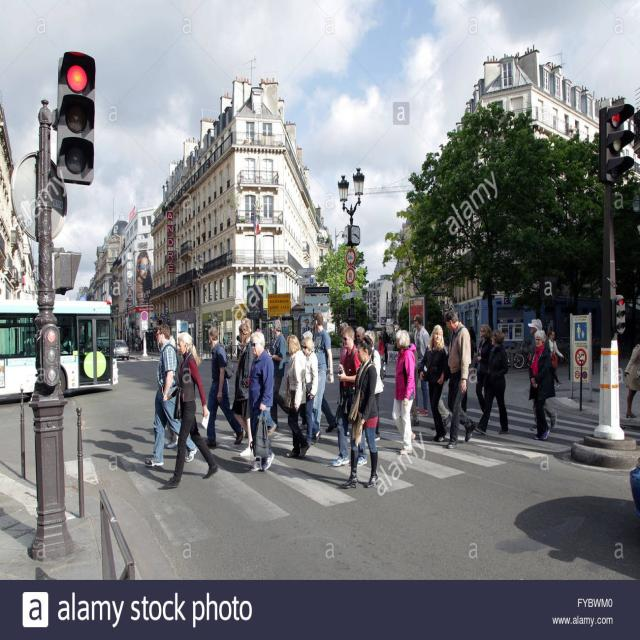body: (163, 330, 218, 490), (144, 322, 199, 469), (338, 336, 381, 492), (79, 416, 161, 487), (200, 326, 247, 448), (331, 326, 368, 472), (443, 308, 477, 449), (246, 329, 277, 474), (474, 327, 512, 437), (415, 322, 449, 444), (307, 311, 338, 436), (280, 332, 310, 460), (390, 328, 417, 457), (528, 319, 558, 432), (528, 328, 557, 441), (231, 322, 254, 457), (162, 332, 185, 452), (265, 319, 289, 429), (299, 336, 322, 450), (362, 330, 385, 442), (445, 319, 471, 416), (428, 330, 448, 433), (412, 313, 431, 417), (400, 332, 420, 428), (474, 322, 494, 417), (338, 321, 350, 437), (623, 342, 640, 419), (546, 328, 565, 388), (135, 250, 151, 299), (79, 320, 92, 354), (468, 325, 478, 361), (264, 408, 276, 435), (382, 326, 389, 366), (127, 336, 143, 353), (240, 316, 254, 335), (300, 330, 314, 348), (377, 334, 385, 365), (355, 326, 366, 342), (300, 316, 312, 329), (392, 320, 399, 342), (222, 332, 228, 355), (390, 332, 397, 344), (368, 321, 373, 331)
